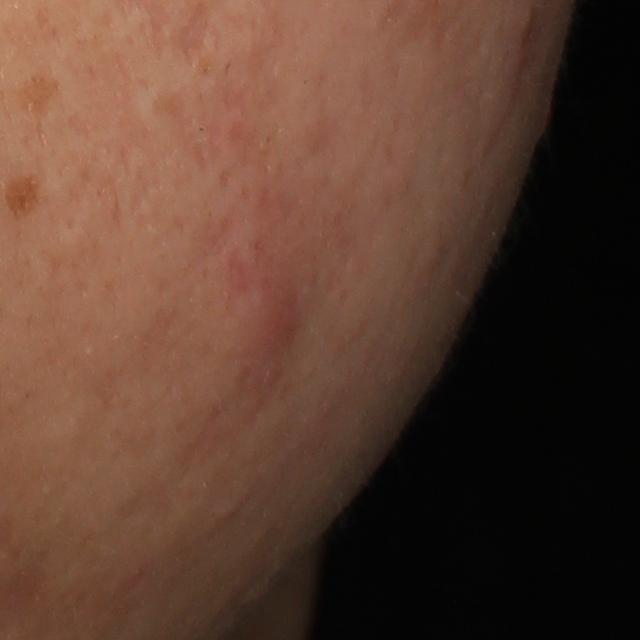comedo: (209, 500, 244, 526)
papule: (226, 269, 304, 367)
